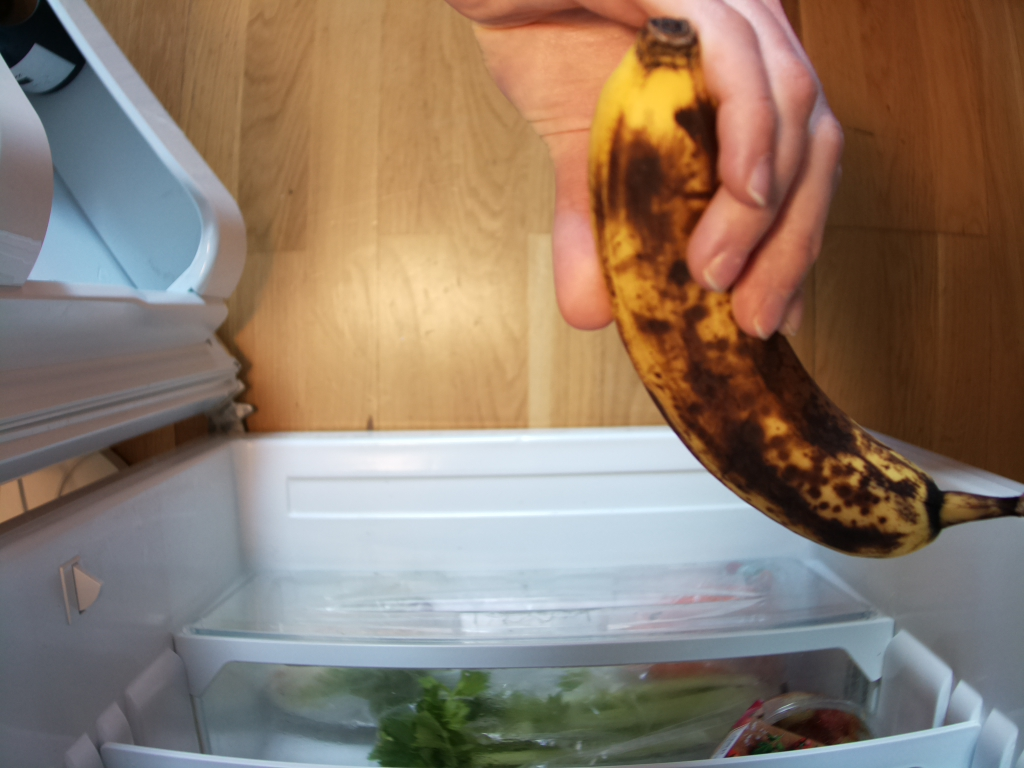banana-overripe: (591, 17, 1024, 556)
